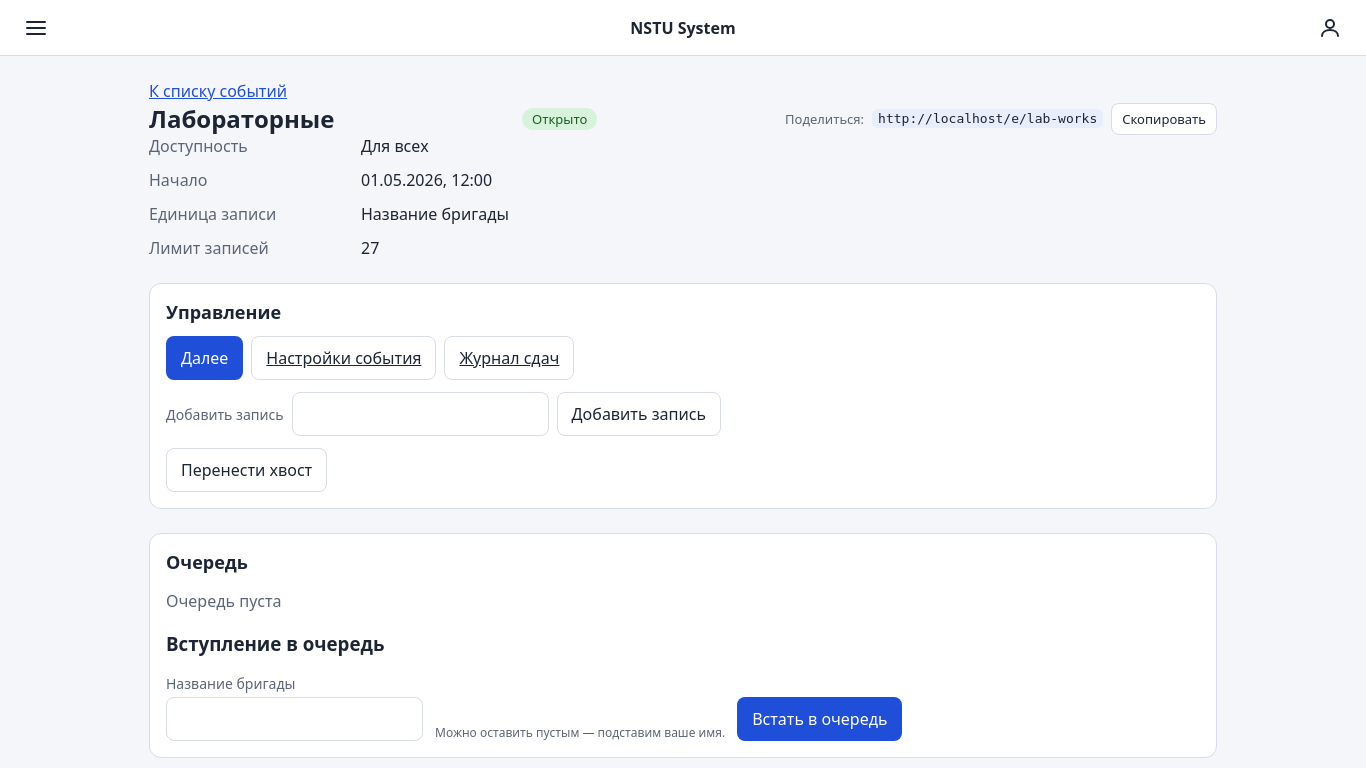
Test: страница события /e/:slug › переход «Настройки события» открывает экран настроек
Click the link "Настройки события": (344, 358) [251,336,436,380]
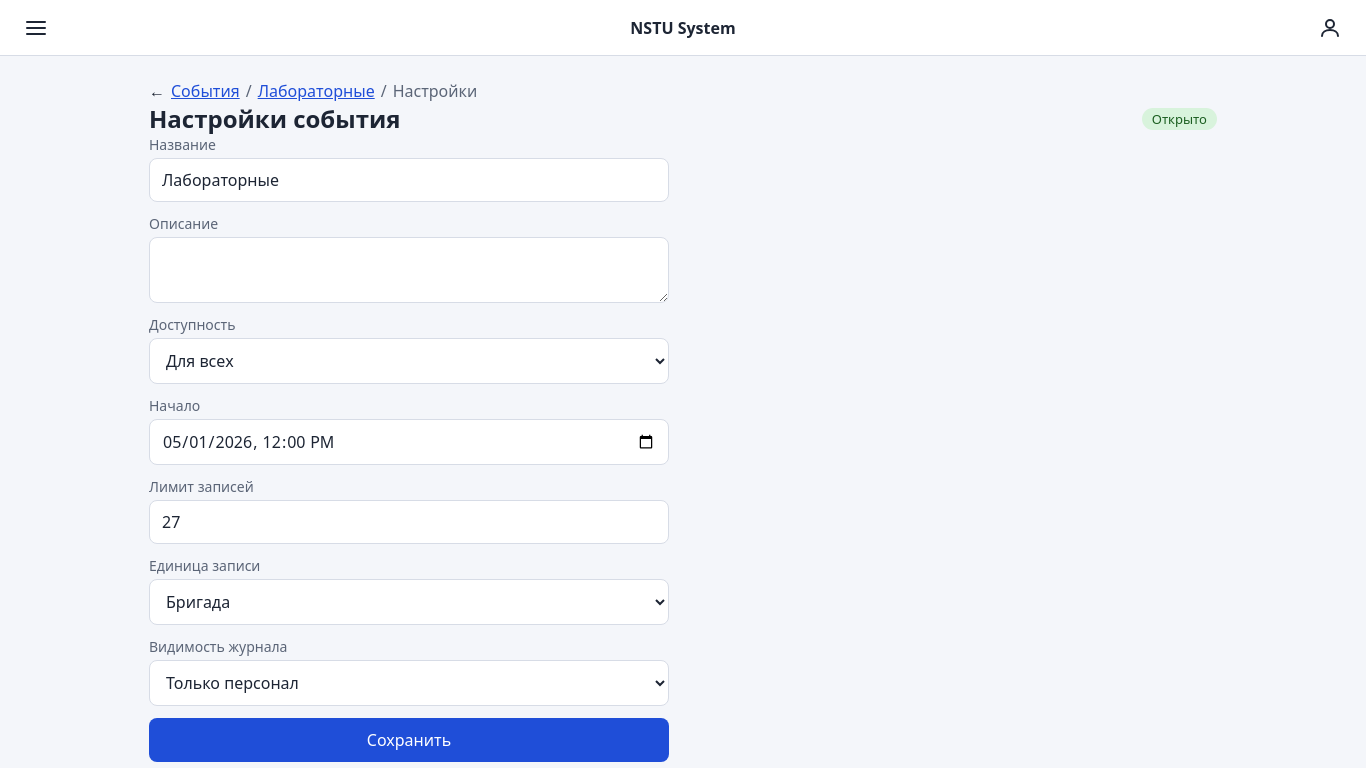
Result: the heading "Настройки события" is shown at [149,102,400,135]
